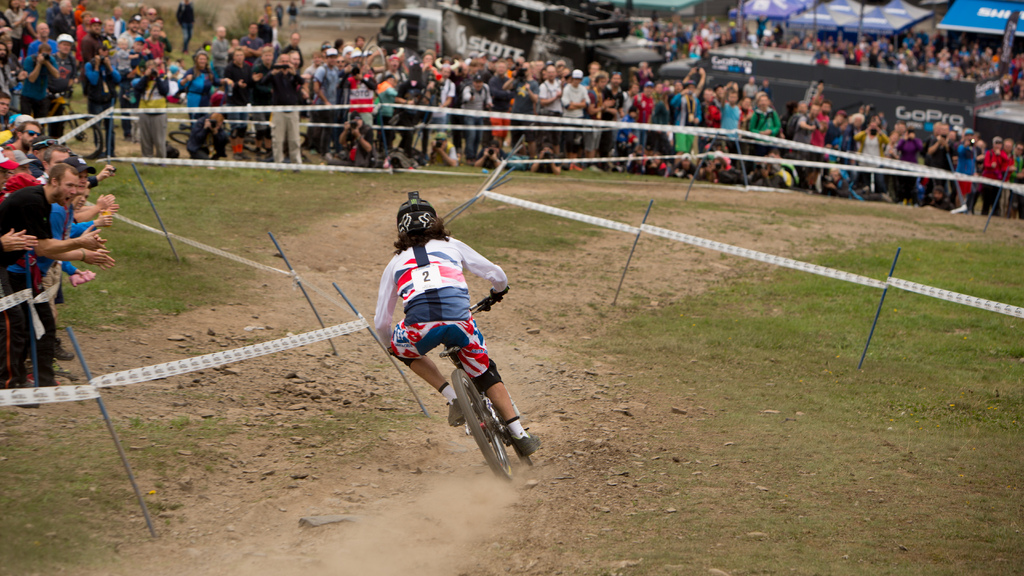Bike_away: (388, 319, 570, 530)
